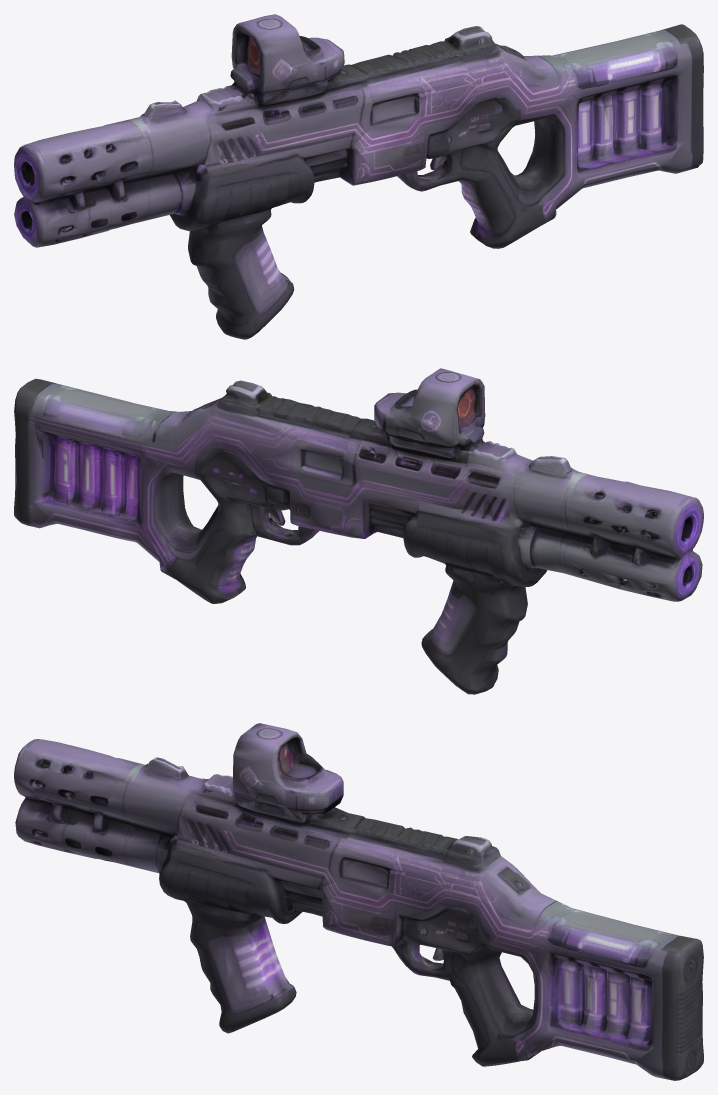
The model's file is Plasma_Shotgun.fbx.
3 renders of one model, top to bottom at view 1: azimuth 30°, elevation 25°; view 2: azimuth 150°, elevation 25°; view 3: azimuth 330°, elevation 25°, orthographic.
Parts seen in each view (by area): view 1: Mesh_0; view 2: Mesh_0; view 3: Mesh_0.
Boxes of the visible parts, x1,y1,x2,y2 form: Mesh_0: [14, 14, 703, 339]; Mesh_0: [14, 368, 703, 694]; Mesh_0: [14, 723, 703, 1080].
Bounding box in the file's own units: 200 × 87.13 × 24.83.
1 material, 1 textured.
